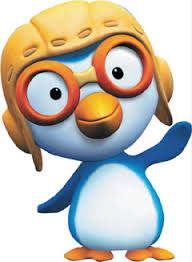Pororo: (1, 3, 190, 262)
